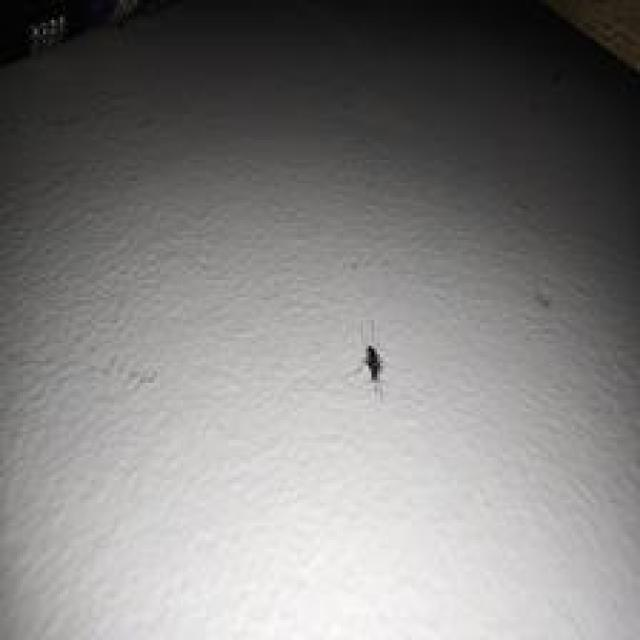Aedes albopictus: (363, 344, 383, 382)
